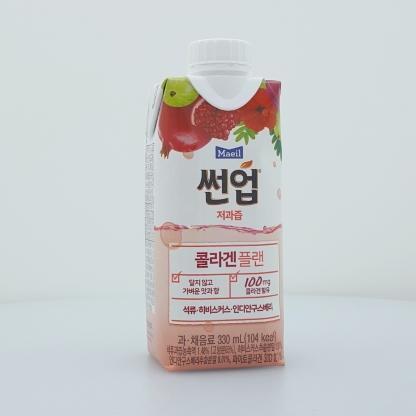--------------330ML: (145, 38, 285, 372)
